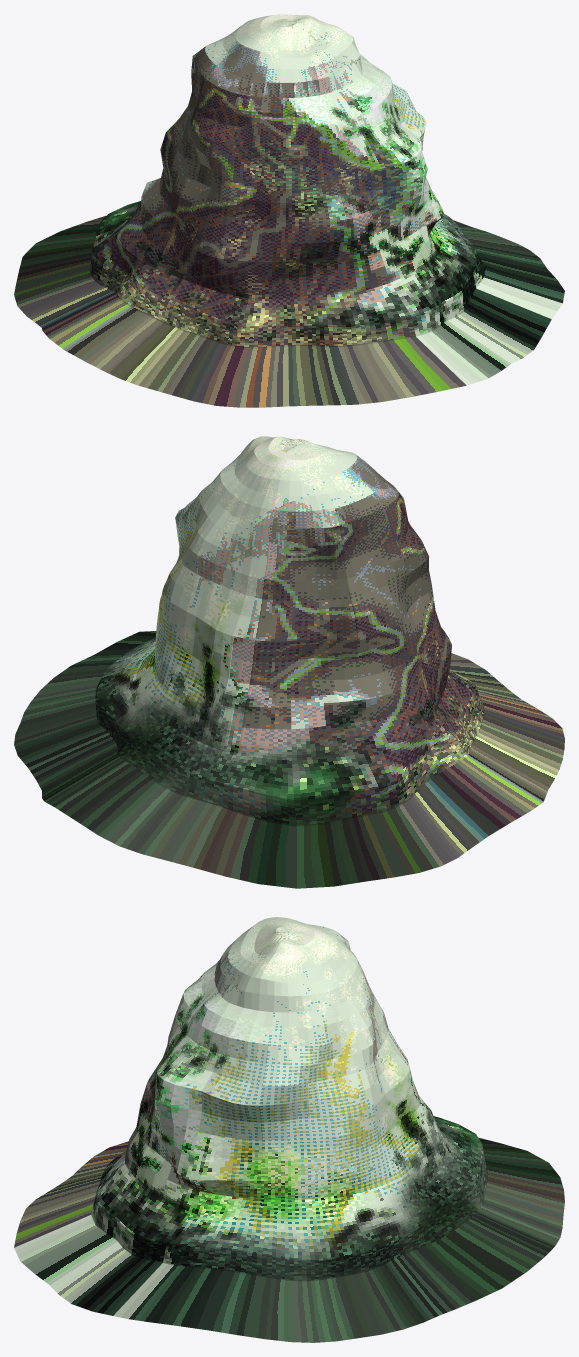
File: montania.glb
3 renders of one model, top to bottom at view 1: azimuth 30°, elevation 25°; view 2: azimuth 150°, elevation 25°; view 3: azimuth 270°, elevation 25°, orthographic. The views are drawn at different scales.
Parts seen in each view (by area): view 1: montania; view 2: montania; view 3: montania.
Part boxes in pixels (x1,y1,x2,y2): montania: [14, 14, 564, 407]; montania: [14, 436, 564, 888]; montania: [14, 917, 564, 1342].
Bounding box in the file's own units: 50 × 30 × 50.
1 material, 1 textured.
